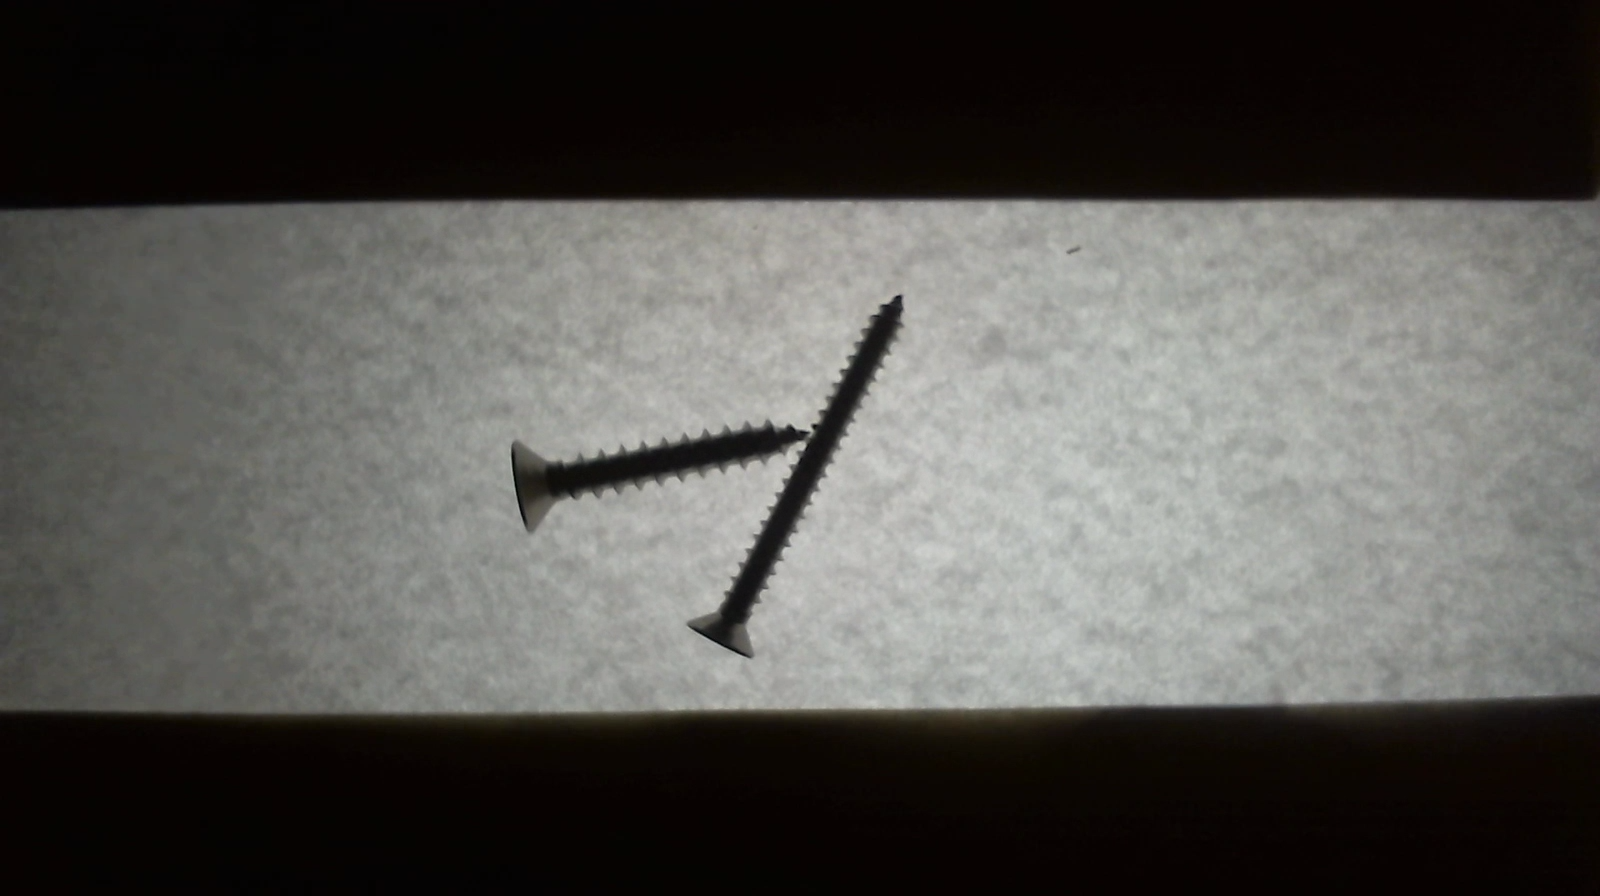S001: (501, 412, 823, 542)
S002: (681, 273, 924, 665)
